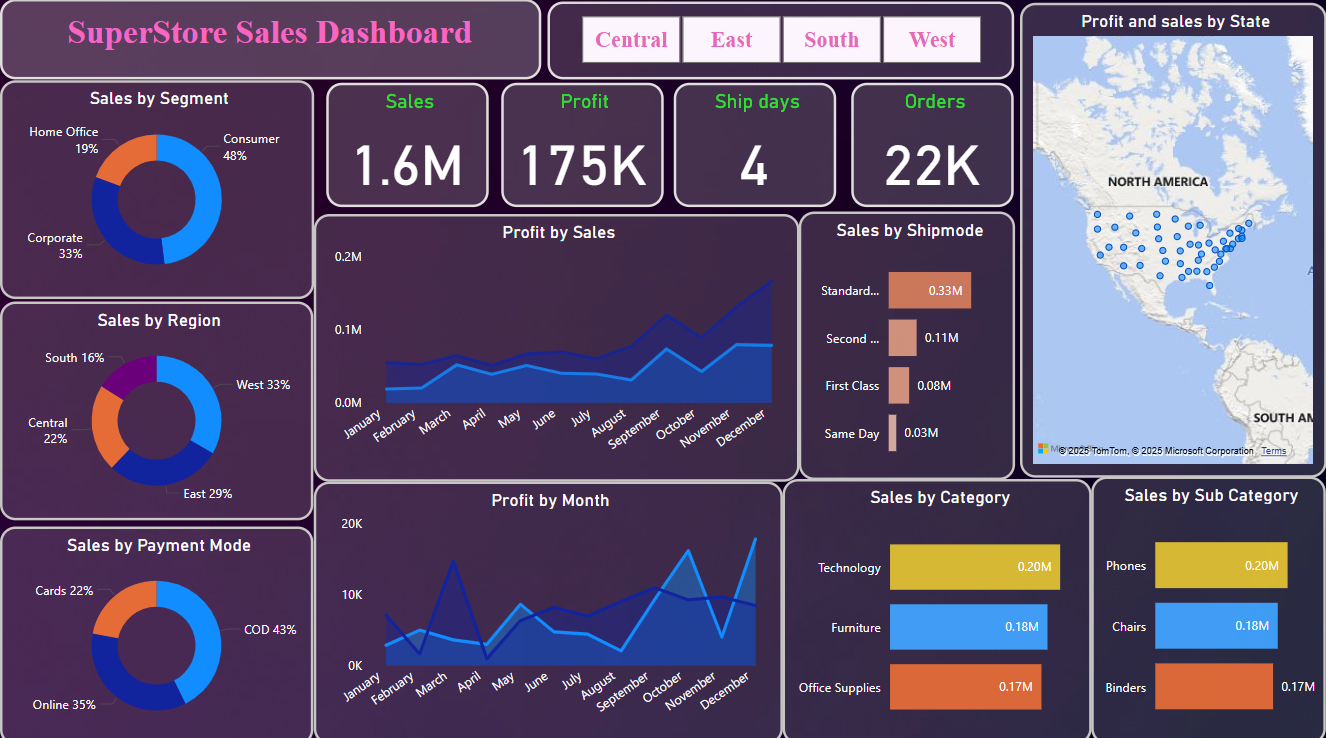

What the dashboard file says about the page in this screenshot:
{"tool":"powerbi","page":{"name":"Page 1","canvas":[1280,720],"ordinal":0},"visuals":[{"type":"clusteredBarChart","title":"Sales by Sub Category ","fields":{"Category":["SuperStore_Sales_Dataset.Sub-Category"],"Y":["Sum(SuperStore_Sales_Dataset.Sales)"]},"box":[1053.8,461.2,226.2,258.8],"z":0},{"type":"clusteredBarChart","title":"Sales by Category ","fields":{"Y":["Sum(SuperStore_Sales_Dataset.Sales)"],"Category":["SuperStore_Sales_Dataset.Category"]},"box":[755,463.8,298.8,256.2],"z":1000},{"type":"clusteredBarChart","title":"Sales by Shipmode","fields":{"Y":["Sum(SuperStore_Sales_Dataset.Sales)"],"Category":["SuperStore_Sales_Dataset.Ship Mode"]},"box":[771.4,204.6,209.1,259.4],"z":2000},{"type":"areaChart","title":" Profit by Month","fields":{"Category":["SuperStore_Sales_Dataset.Order Date.Variation.Date Hierarchy.Month","SuperStore_Sales_Dataset.Order Date.Variation.Date Hierarchy.Day"],"Series":["SuperStore_Sales_Dataset.Order Date.Variation.Date Hierarchy.Year"],"Y":["Sum(SuperStore_Sales_Dataset.Profit)"]},"box":[302.5,466.2,452.5,253.8],"z":3000},{"type":"map","title":"Profit and sales by State","fields":{"Category":["SuperStore_Sales_Dataset.State"]},"box":[984,3.4,296,458.3],"z":4000},{"type":"donutChart","title":"Sales by Payment Mode","fields":{"Category":["SuperStore_Sales_Dataset.Payment Mode"],"Y":["Sum(SuperStore_Sales_Dataset.Sales)"]},"box":[0,508.8,302.5,211.2],"z":5000},{"type":"donutChart","title":"Sales by Region","fields":{"Y":["Sum(SuperStore_Sales_Dataset.Sales)"],"Category":["SuperStore_Sales_Dataset.Region"]},"box":[0,292.5,302.5,211.2],"z":6000},{"type":"slicer","fields":{"Values":["SuperStore_Sales_Dataset.Region"]},"box":[529,3,450,75],"z":7000},{"type":"textbox","box":[0,0,522.3,77.7],"z":8000},{"type":"card","title":"Sales","fields":{"Values":["Sum(SuperStore_Sales_Dataset.Sales)"]},"box":[315.4,81.1,156.6,120],"z":9000},{"type":"card","title":"Orders","fields":{"Values":["Sum(SuperStore_Sales_Dataset.Quantity)"]},"box":[821.7,81.1,157,120],"z":10000},{"type":"card","title":"Profit","fields":{"Values":["Sum(SuperStore_Sales_Dataset.Profit)"]},"box":[483.4,81.1,156.6,120],"z":11000},{"type":"donutChart","title":"Sales by Segment","fields":{"Category":["SuperStore_Sales_Dataset.Segment"],"Y":["Sum(SuperStore_Sales_Dataset.Sales)"]},"box":[0,78.9,302.9,211.4],"z":12000},{"type":"areaChart","title":" Profit by Sales","fields":{"Category":["SuperStore_Sales_Dataset.Order Date.Variation.Date Hierarchy.Month","SuperStore_Sales_Dataset.Order Date.Variation.Date Hierarchy.Day"],"Series":["SuperStore_Sales_Dataset.Order Date.Variation.Date Hierarchy.Year"],"Y":["Sum(SuperStore_Sales_Dataset.Sales)"]},"box":[302.9,208,468.6,258.3],"z":13000},{"type":"card","title":"Ship days","fields":{"Values":["Avg(SuperStore_Sales_Dataset.Avedelivery)"]},"box":[650.3,81.1,156.6,120],"z":14000}]}

Visuals, with their boxes in screenshot pixels (x1, y1, x2, y2), scaled from the page's 1280x720 canvas onto the 1326x738 screenshot:
"Sales by Sub Category " clusteredBarChart: detection(1092, 473, 1325, 737)
"Sales by Category " clusteredBarChart: detection(782, 475, 1092, 737)
"Sales by Shipmode" clusteredBarChart: detection(799, 210, 1016, 476)
" Profit by Month" areaChart: detection(313, 478, 782, 737)
"Profit and sales by State" map: detection(1019, 3, 1325, 473)
"Sales by Payment Mode" donutChart: detection(0, 522, 313, 737)
"Sales by Region" donutChart: detection(0, 300, 313, 516)
slicer - SuperStore_Sales_Dataset.Region: detection(548, 3, 1014, 80)
textbox: detection(0, 0, 541, 80)
"Sales" card: detection(327, 83, 489, 206)
"Orders" card: detection(851, 83, 1014, 206)
"Profit" card: detection(501, 83, 663, 206)
"Sales by Segment" donutChart: detection(0, 81, 314, 298)
" Profit by Sales" areaChart: detection(314, 213, 799, 478)
"Ship days" card: detection(674, 83, 836, 206)
